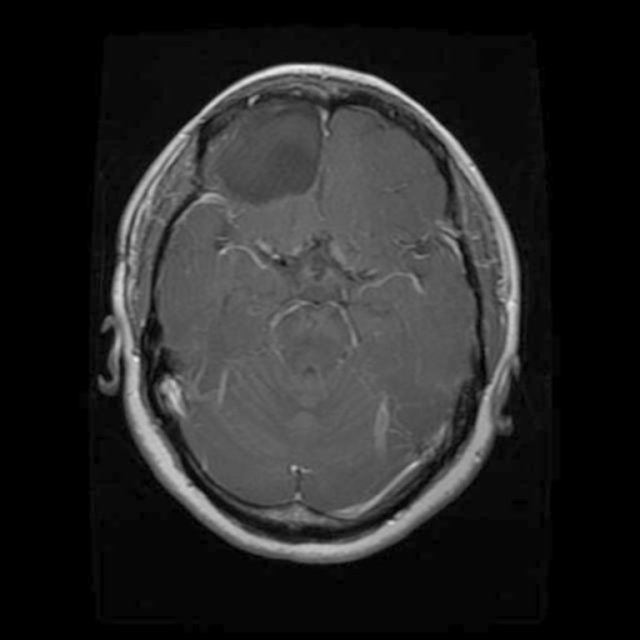pituitary tumor: (204, 100, 322, 202)
